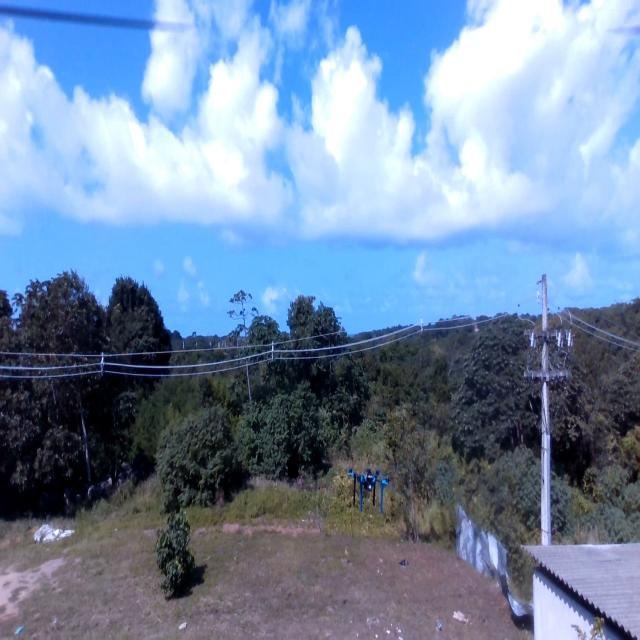-uav-: (347, 461, 390, 517)
